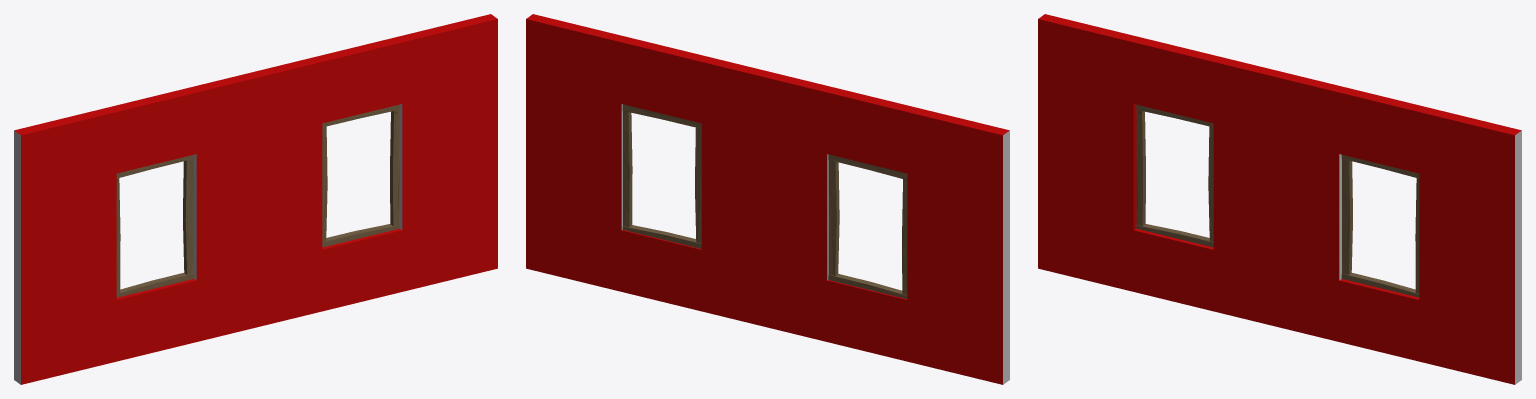
Rendered from Wall_Window_002.fbx.
3 renders of one model, left to right at view 1: azimuth 30°, elevation 25°; view 2: azimuth 150°, elevation 25°; view 3: azimuth 330°, elevation 25°, orthographic.
Visible parts, largest first — view 1: Wall_Window.001; view 2: Wall_Window.001; view 3: Wall_Window.001.
Boxes of the visible parts, box(x1,y1,x2,y2) form: Wall_Window.001: box(14, 14, 497, 384); Wall_Window.001: box(526, 14, 1009, 384); Wall_Window.001: box(1038, 14, 1521, 384).
Size of the model in its own units: 1072 by 536 by 26.79.
